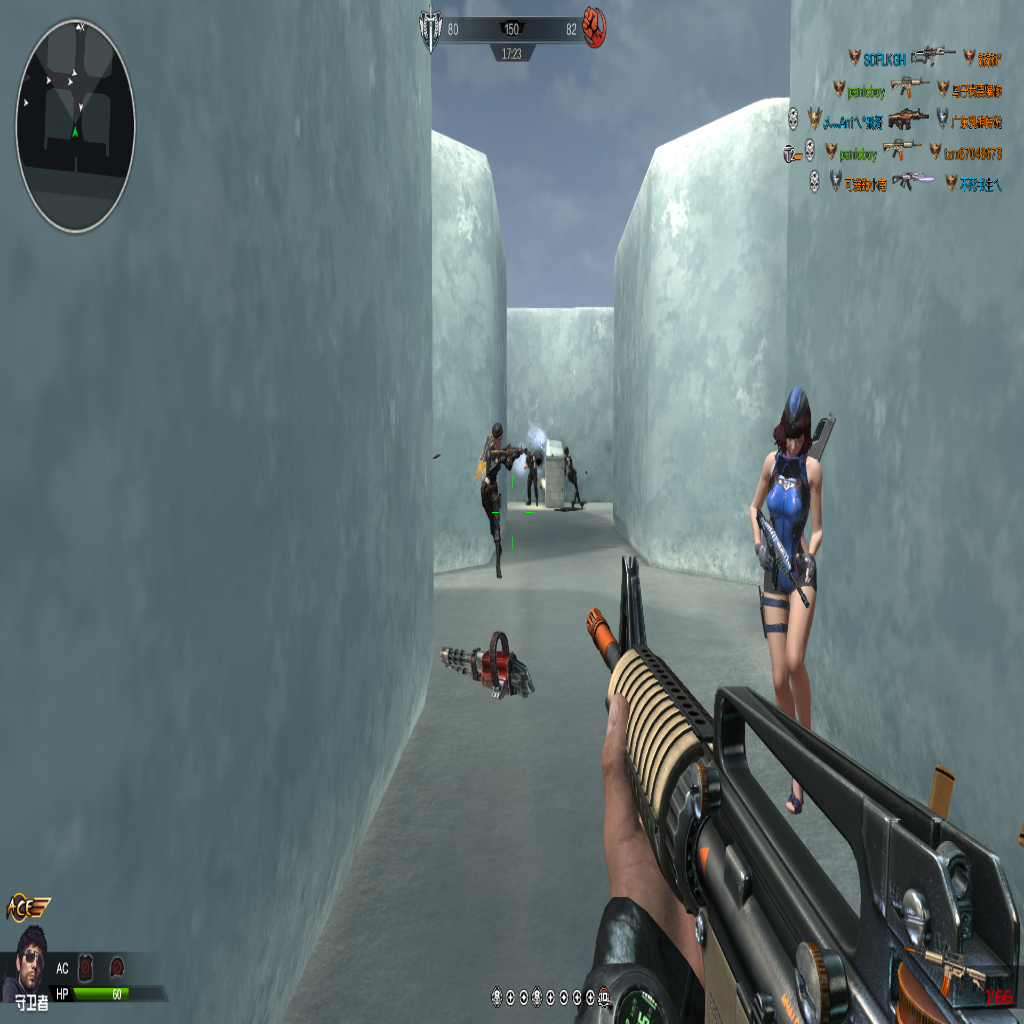ct: (475, 425, 523, 580), (524, 446, 541, 507)
